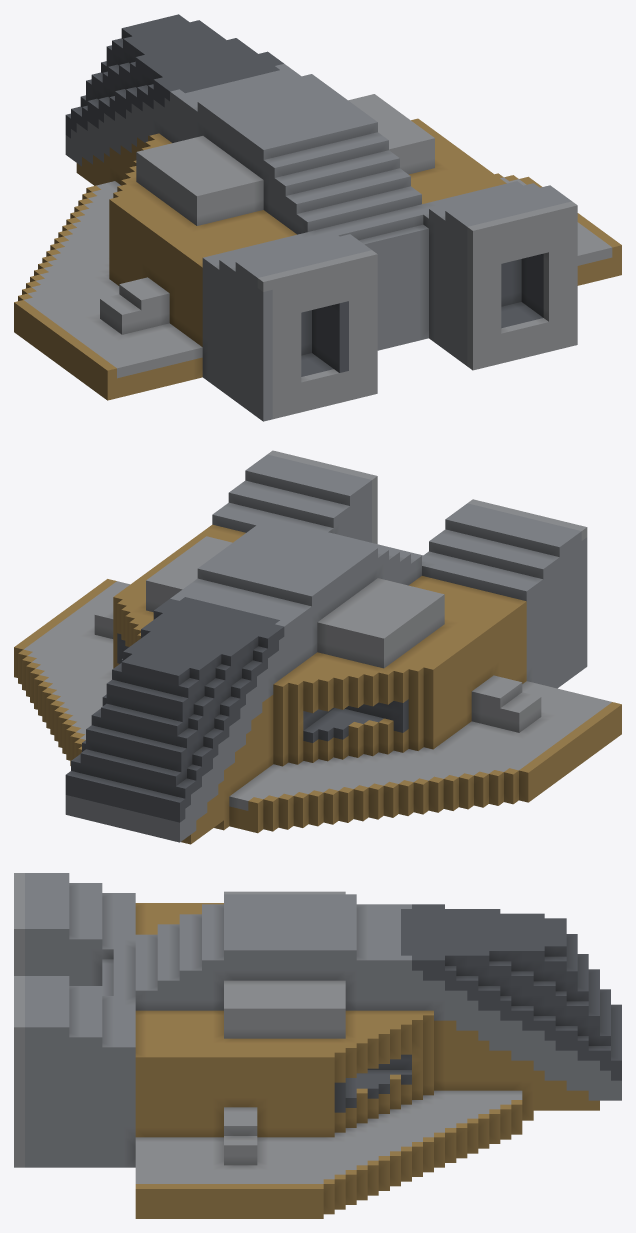
Rendered from speeder_b.glb.
3 renders of one model, top to bottom at view 1: azimuth 30°, elevation 25°; view 2: azimuth 150°, elevation 25°; view 3: azimuth 270°, elevation 25°, orthographic.
Visible parts, largest first — view 1: voxels; view 2: voxels; view 3: voxels.
Boxes of the visible parts, <box> form: voxels: <box>14,14,621,421</box>; voxels: <box>14,450,621,844</box>; voxels: <box>14,873,621,1218</box>.
Size of the model in its own units: 2.02 by 0.6376 by 2.06.
